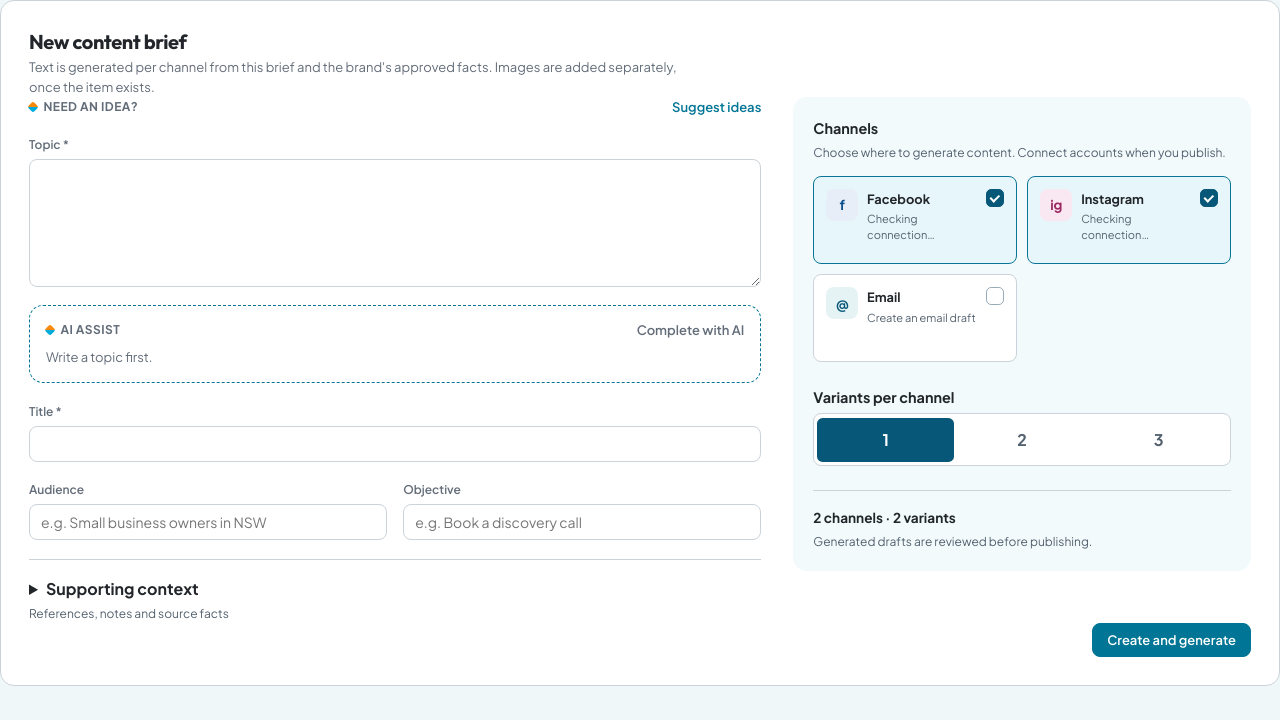
Scenario: BriefForm › locks the brief once the item is saved, so a retry cannot silently drop edits
Type "Spring workshop" into the field labelled "Title *" at (395, 444), box 29,426 -> 761,462
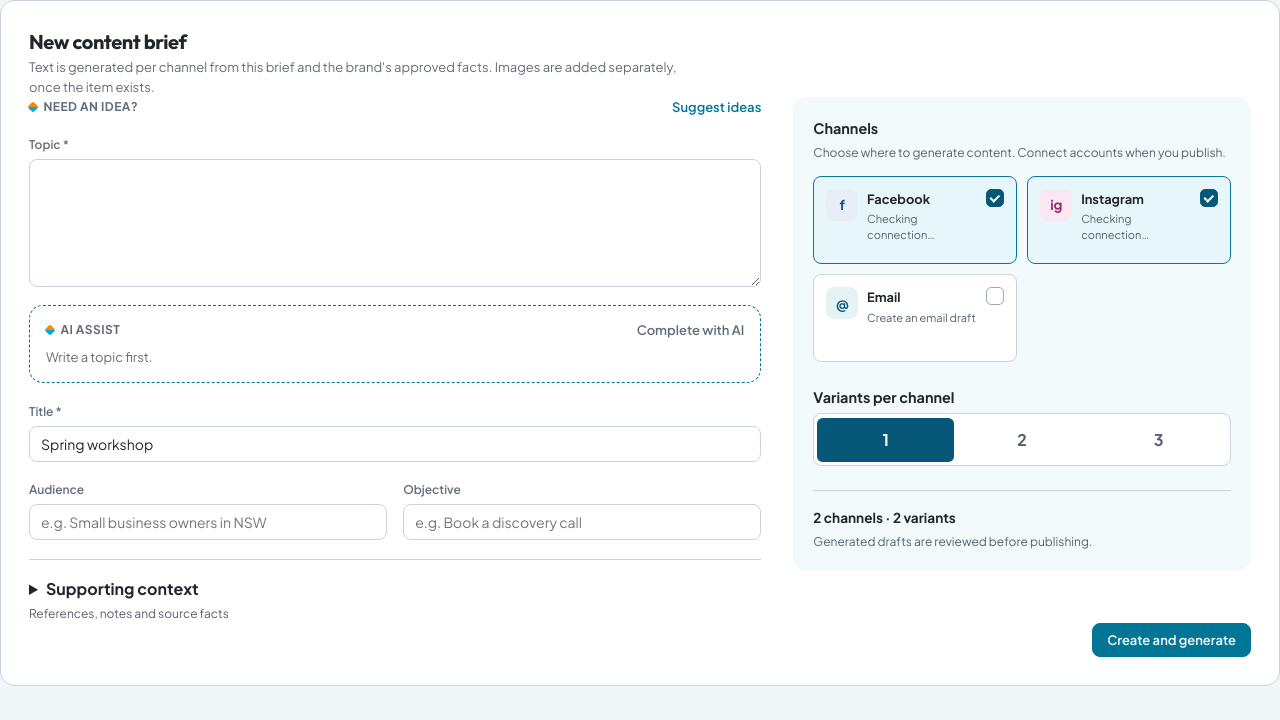
Type "Launch of the spring workshop" into the text box labelled "Topic *" at (395, 223), box 29,159 -> 761,287
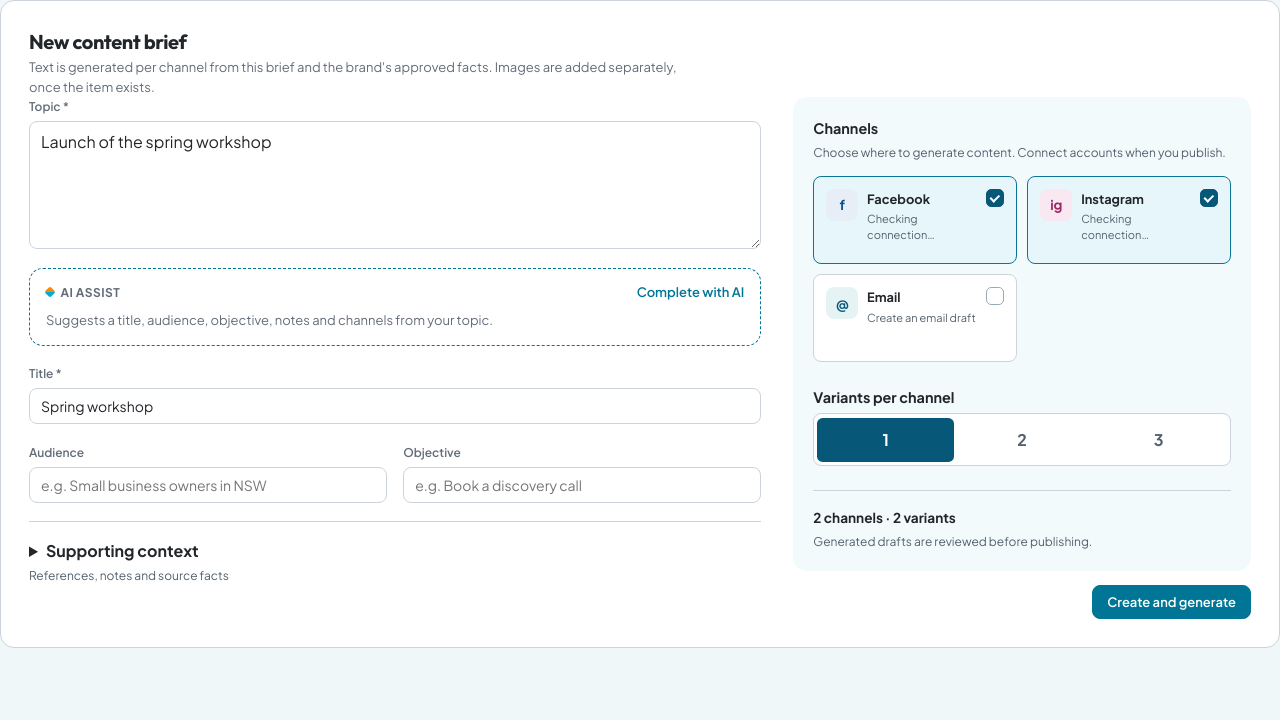
Click the button "Create and generate" at (1172, 602), box 1092,585 -> 1251,619
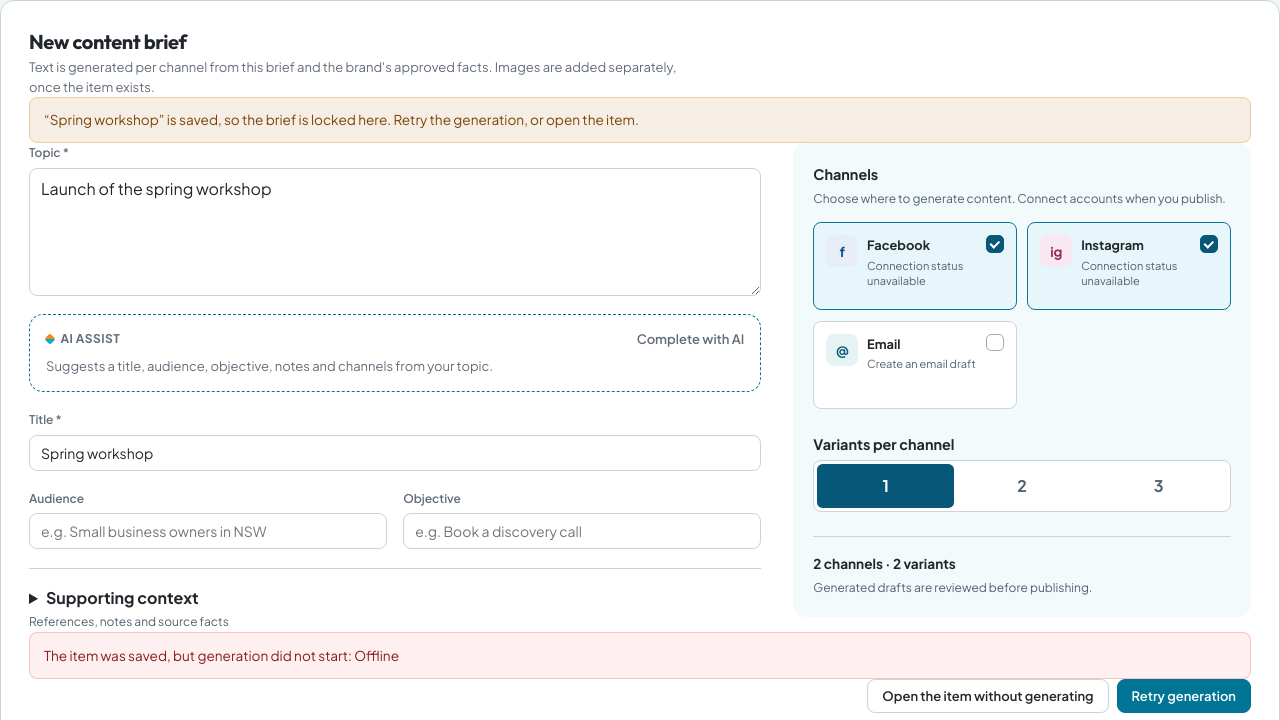
expect the field labelled "Title *" is disabled: met, box 29,434 -> 761,470
expect the text "is saved, so the brief is locked here" is shown: met, box 159,111 -> 639,128
